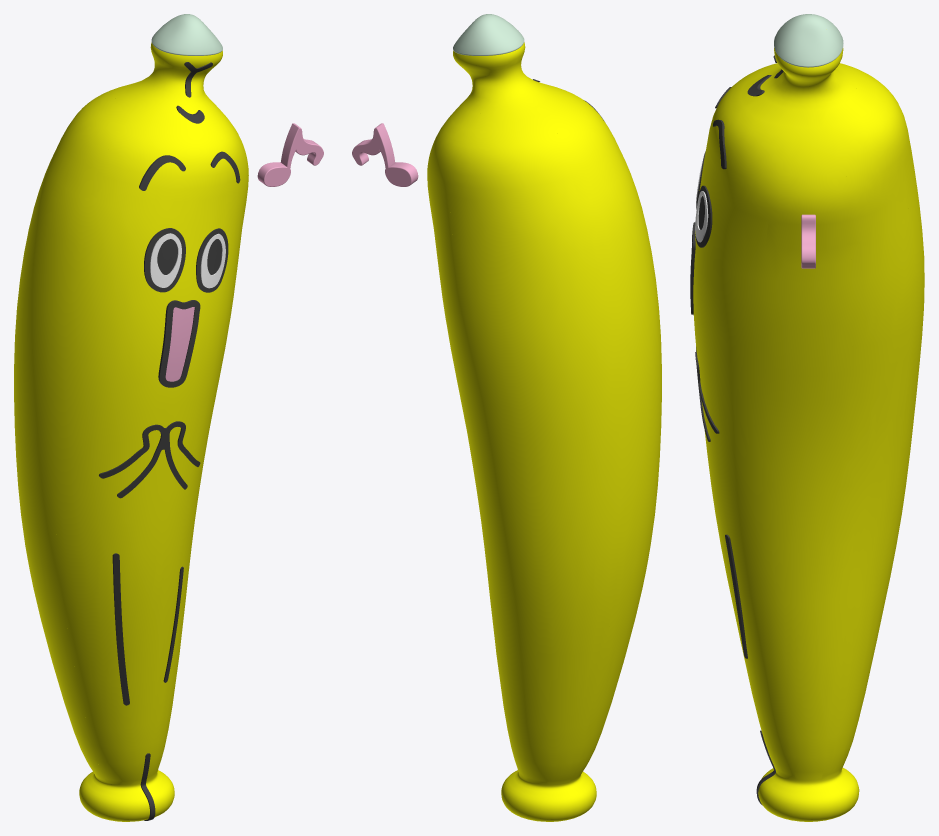
The picture shows the model from 3 angles, left to right: view 1: azimuth 30°, elevation 25°; view 2: azimuth 150°, elevation 25°; view 3: azimuth 270°, elevation 25°; orthographic projection. The views are drawn at different scales.
Visible parts, largest first — view 1: 021_nanana_L; view 2: 021_nanana_L; view 3: 021_nanana_L.
Part boxes in pixels (<box>): 021_nanana_L: <box>14,14,323,821</box>; 021_nanana_L: <box>352,14,661,821</box>; 021_nanana_L: <box>690,14,924,821</box>.
Bounding box in the file's own units: 0.0792 × 0.2012 × 0.0518.
